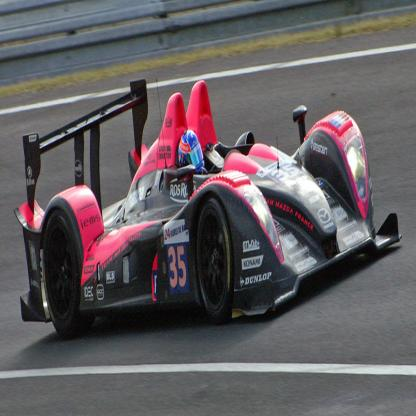Helmet: (291, 123, 385, 231), (178, 128, 204, 177)
